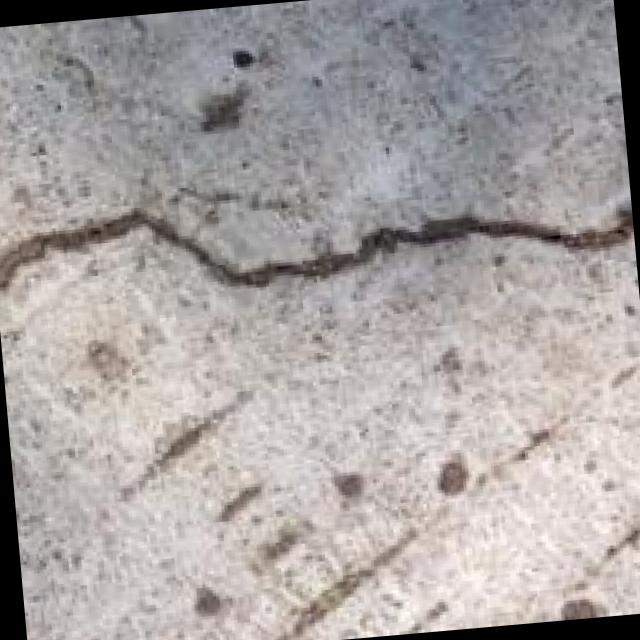crack: (0, 139, 640, 383)
